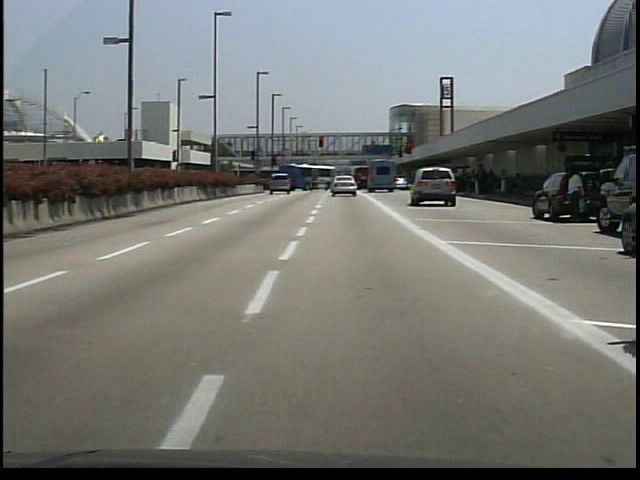person: (565, 169, 587, 224)
